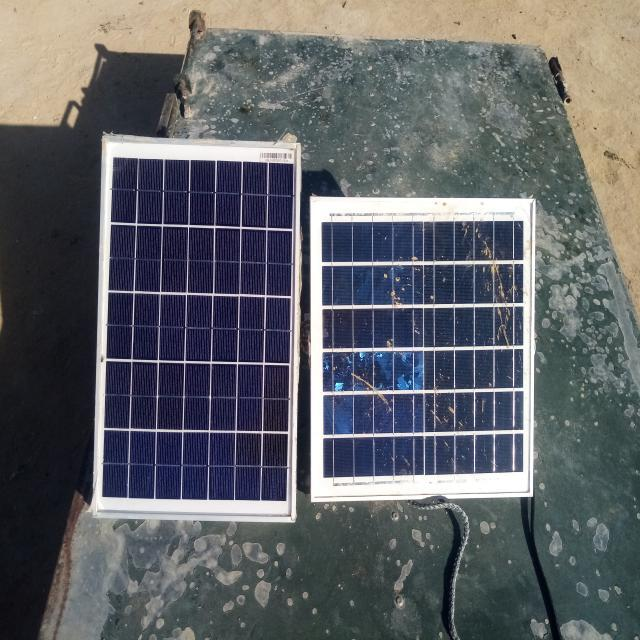faulty: (311, 198, 535, 502)
no faulty: (94, 136, 302, 522)
